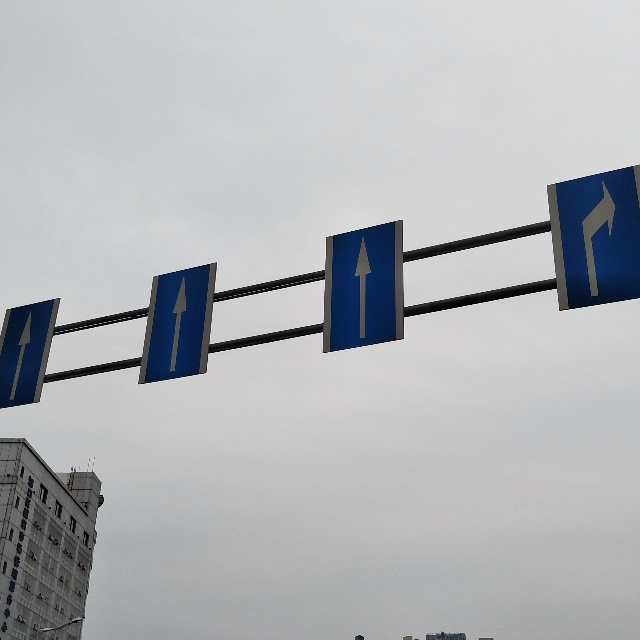right: (565, 181, 633, 302)
straight: (342, 236, 384, 341), (160, 275, 199, 374), (6, 310, 38, 400)
